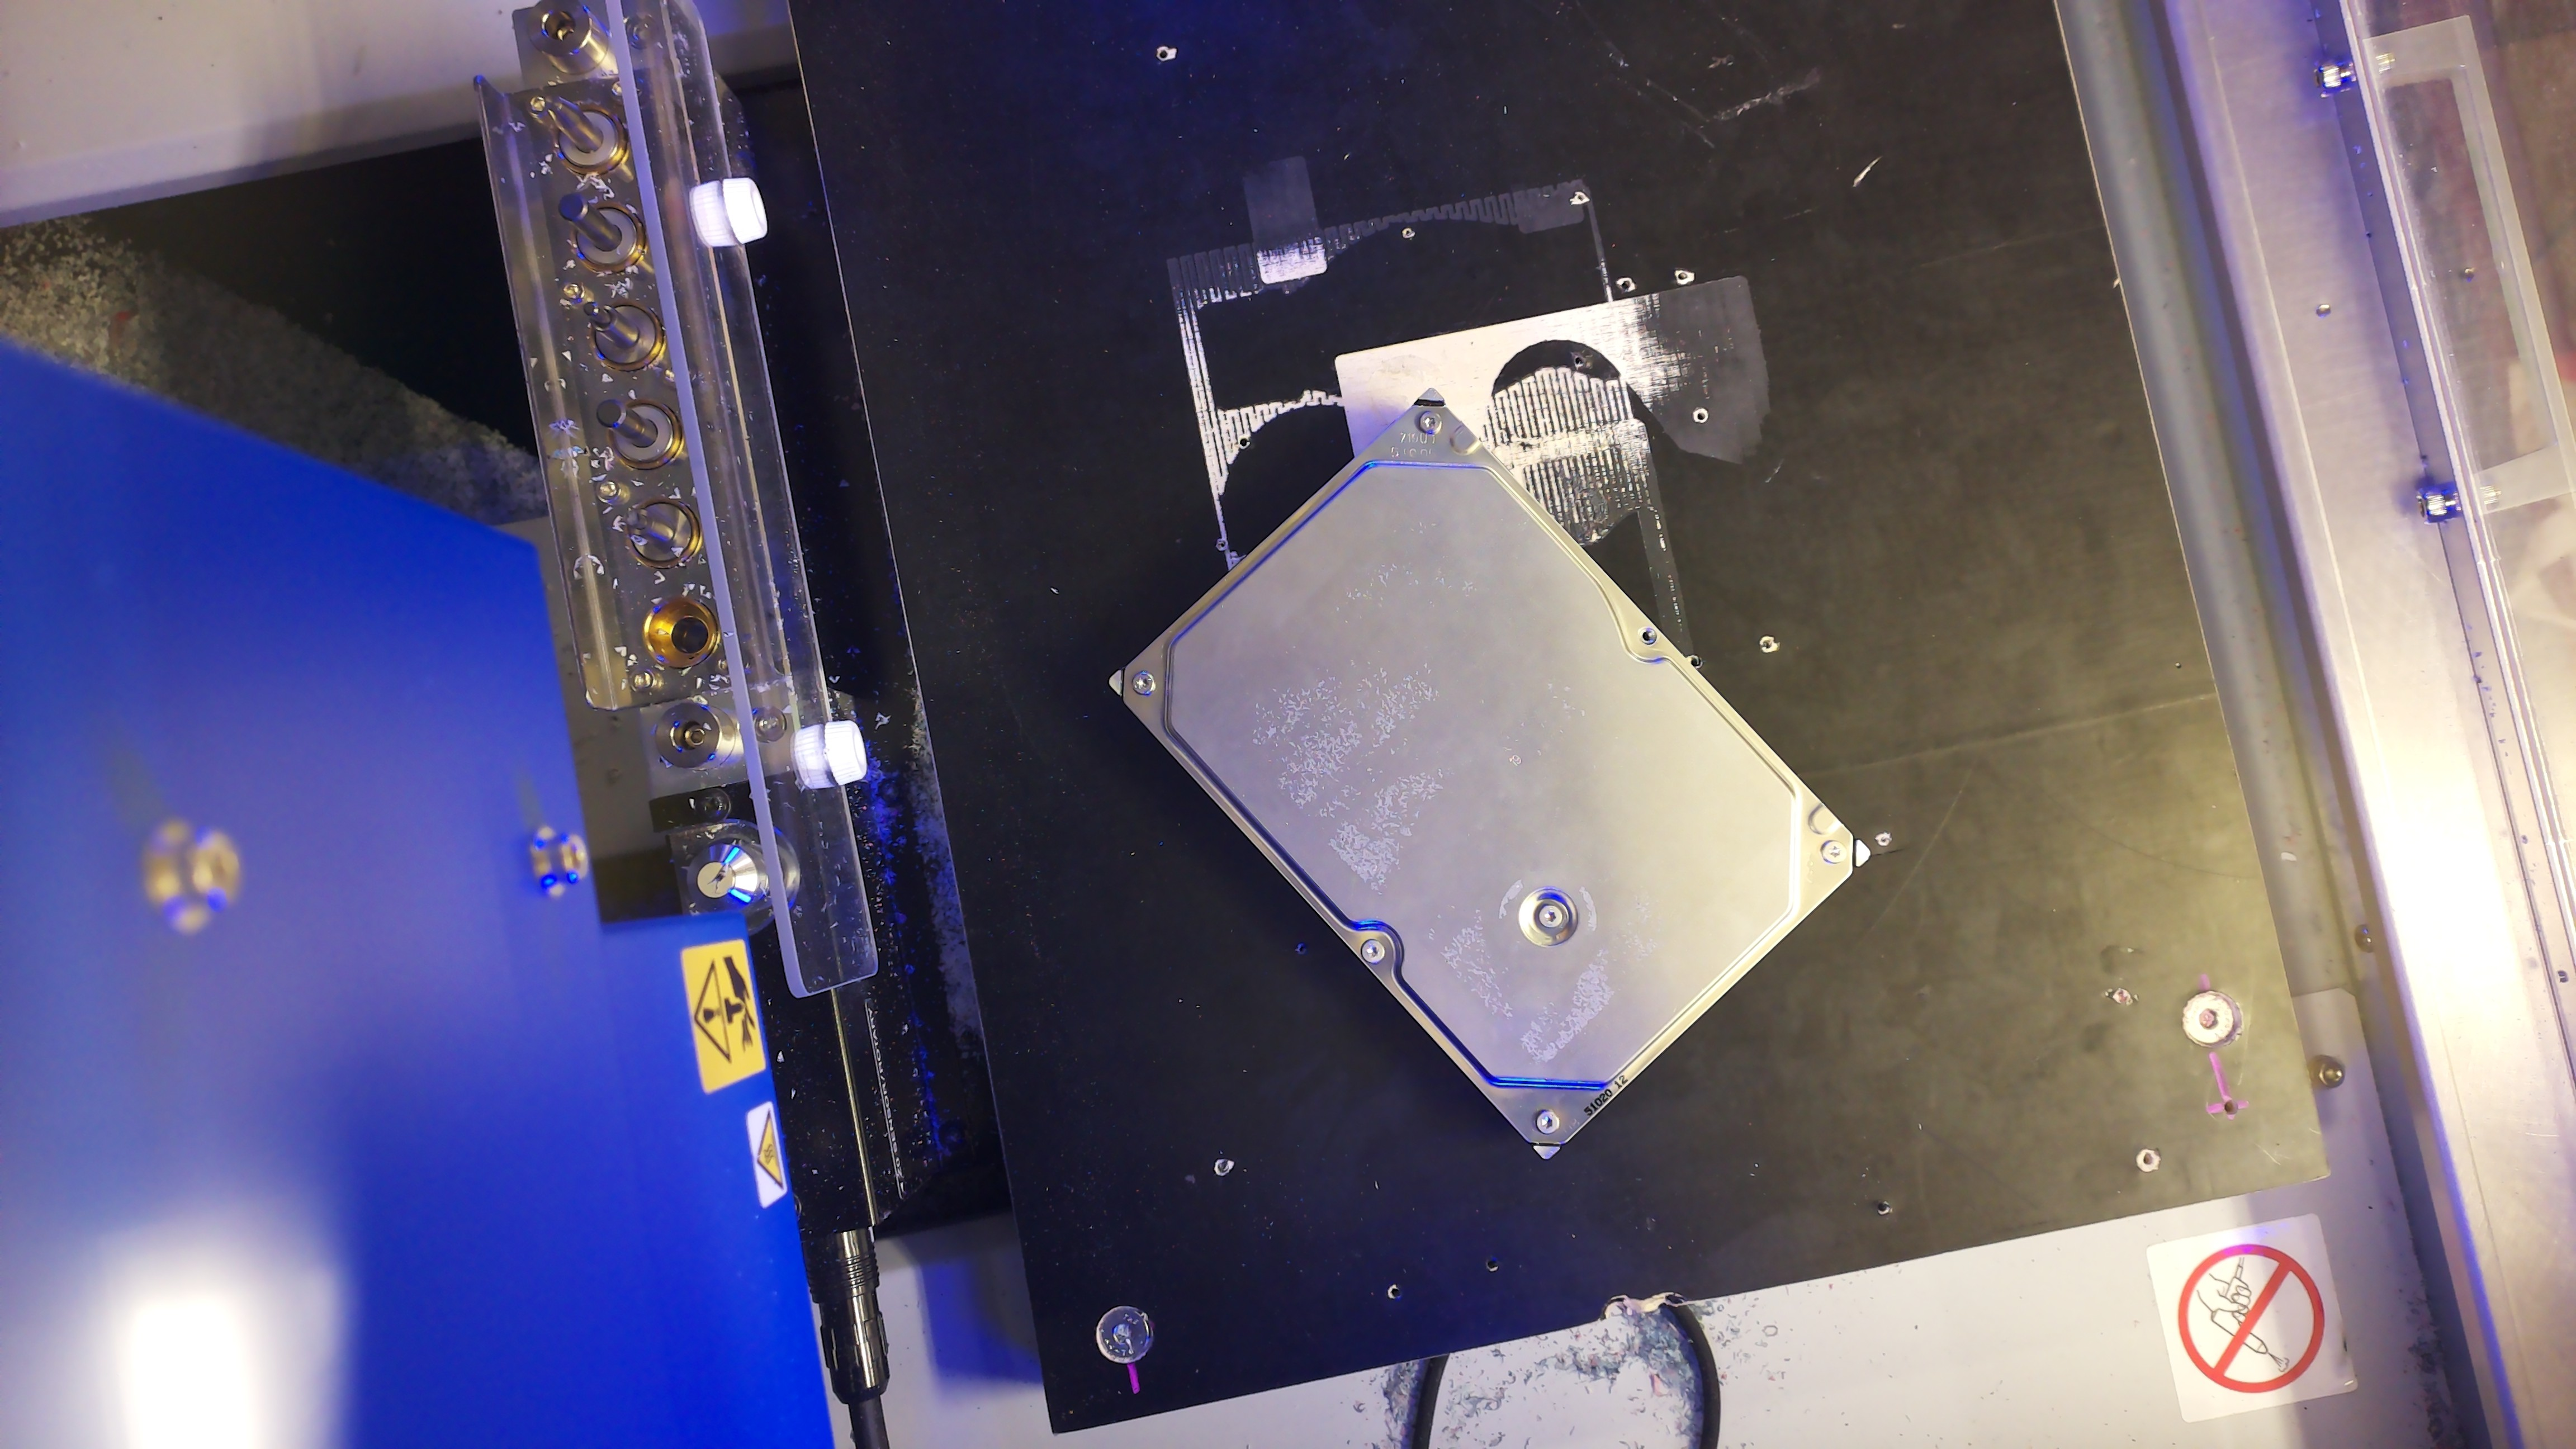Hole: (1638, 626, 1658, 646)
Screw: (1359, 938, 1385, 964), (1821, 839, 1847, 863), (1536, 1109, 1560, 1136), (1131, 671, 1155, 697), (1537, 904, 1562, 929), (1419, 410, 1442, 435)
